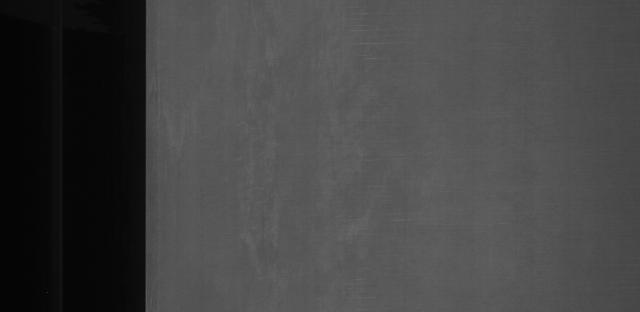waist_folding: (352, 13, 419, 262)
